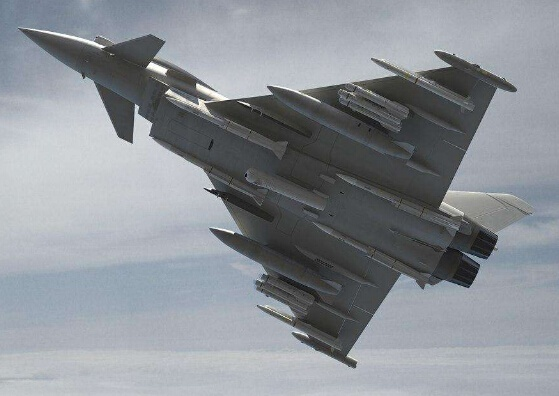airplane: (17, 22, 527, 368)
